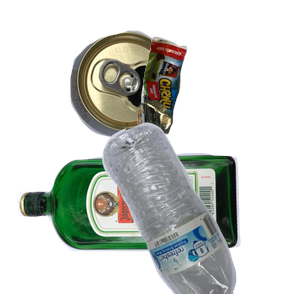glass: (14, 150, 247, 300)
metal: (68, 28, 237, 159)
plastic: (100, 120, 300, 300)
trash: (130, 34, 300, 203)
